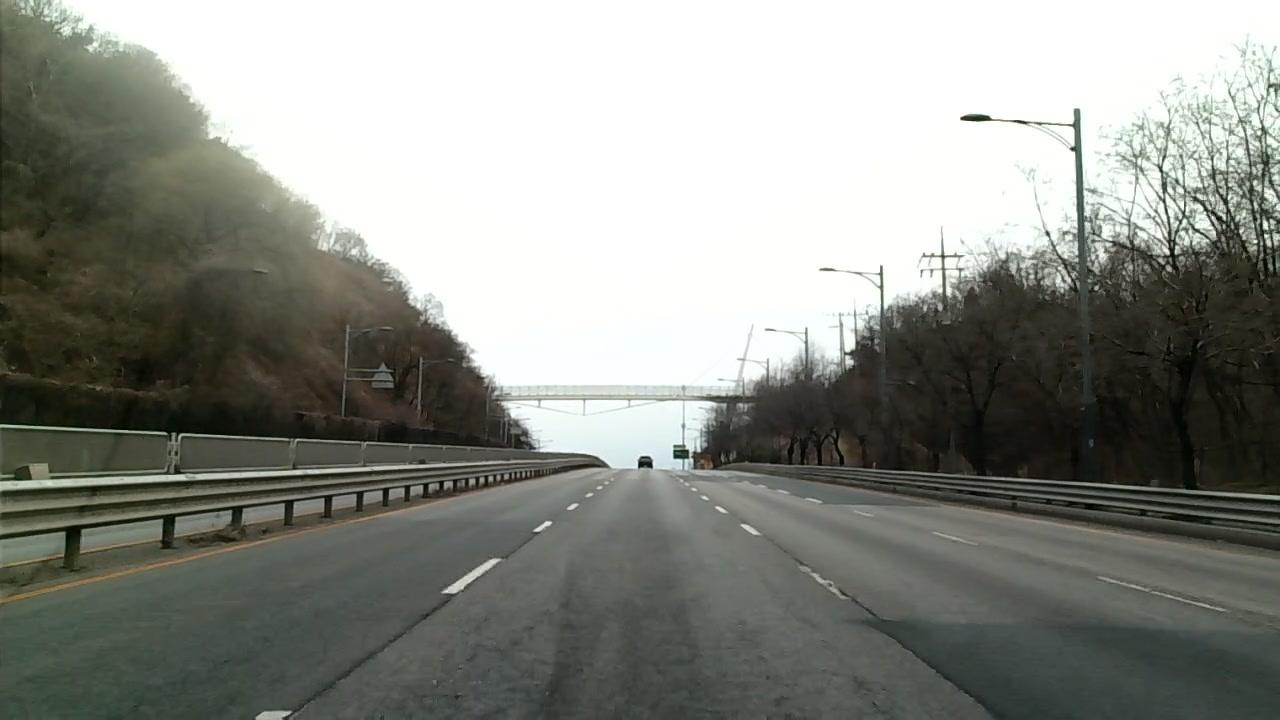vcrack: (249, 534, 540, 720), (768, 542, 886, 624)
